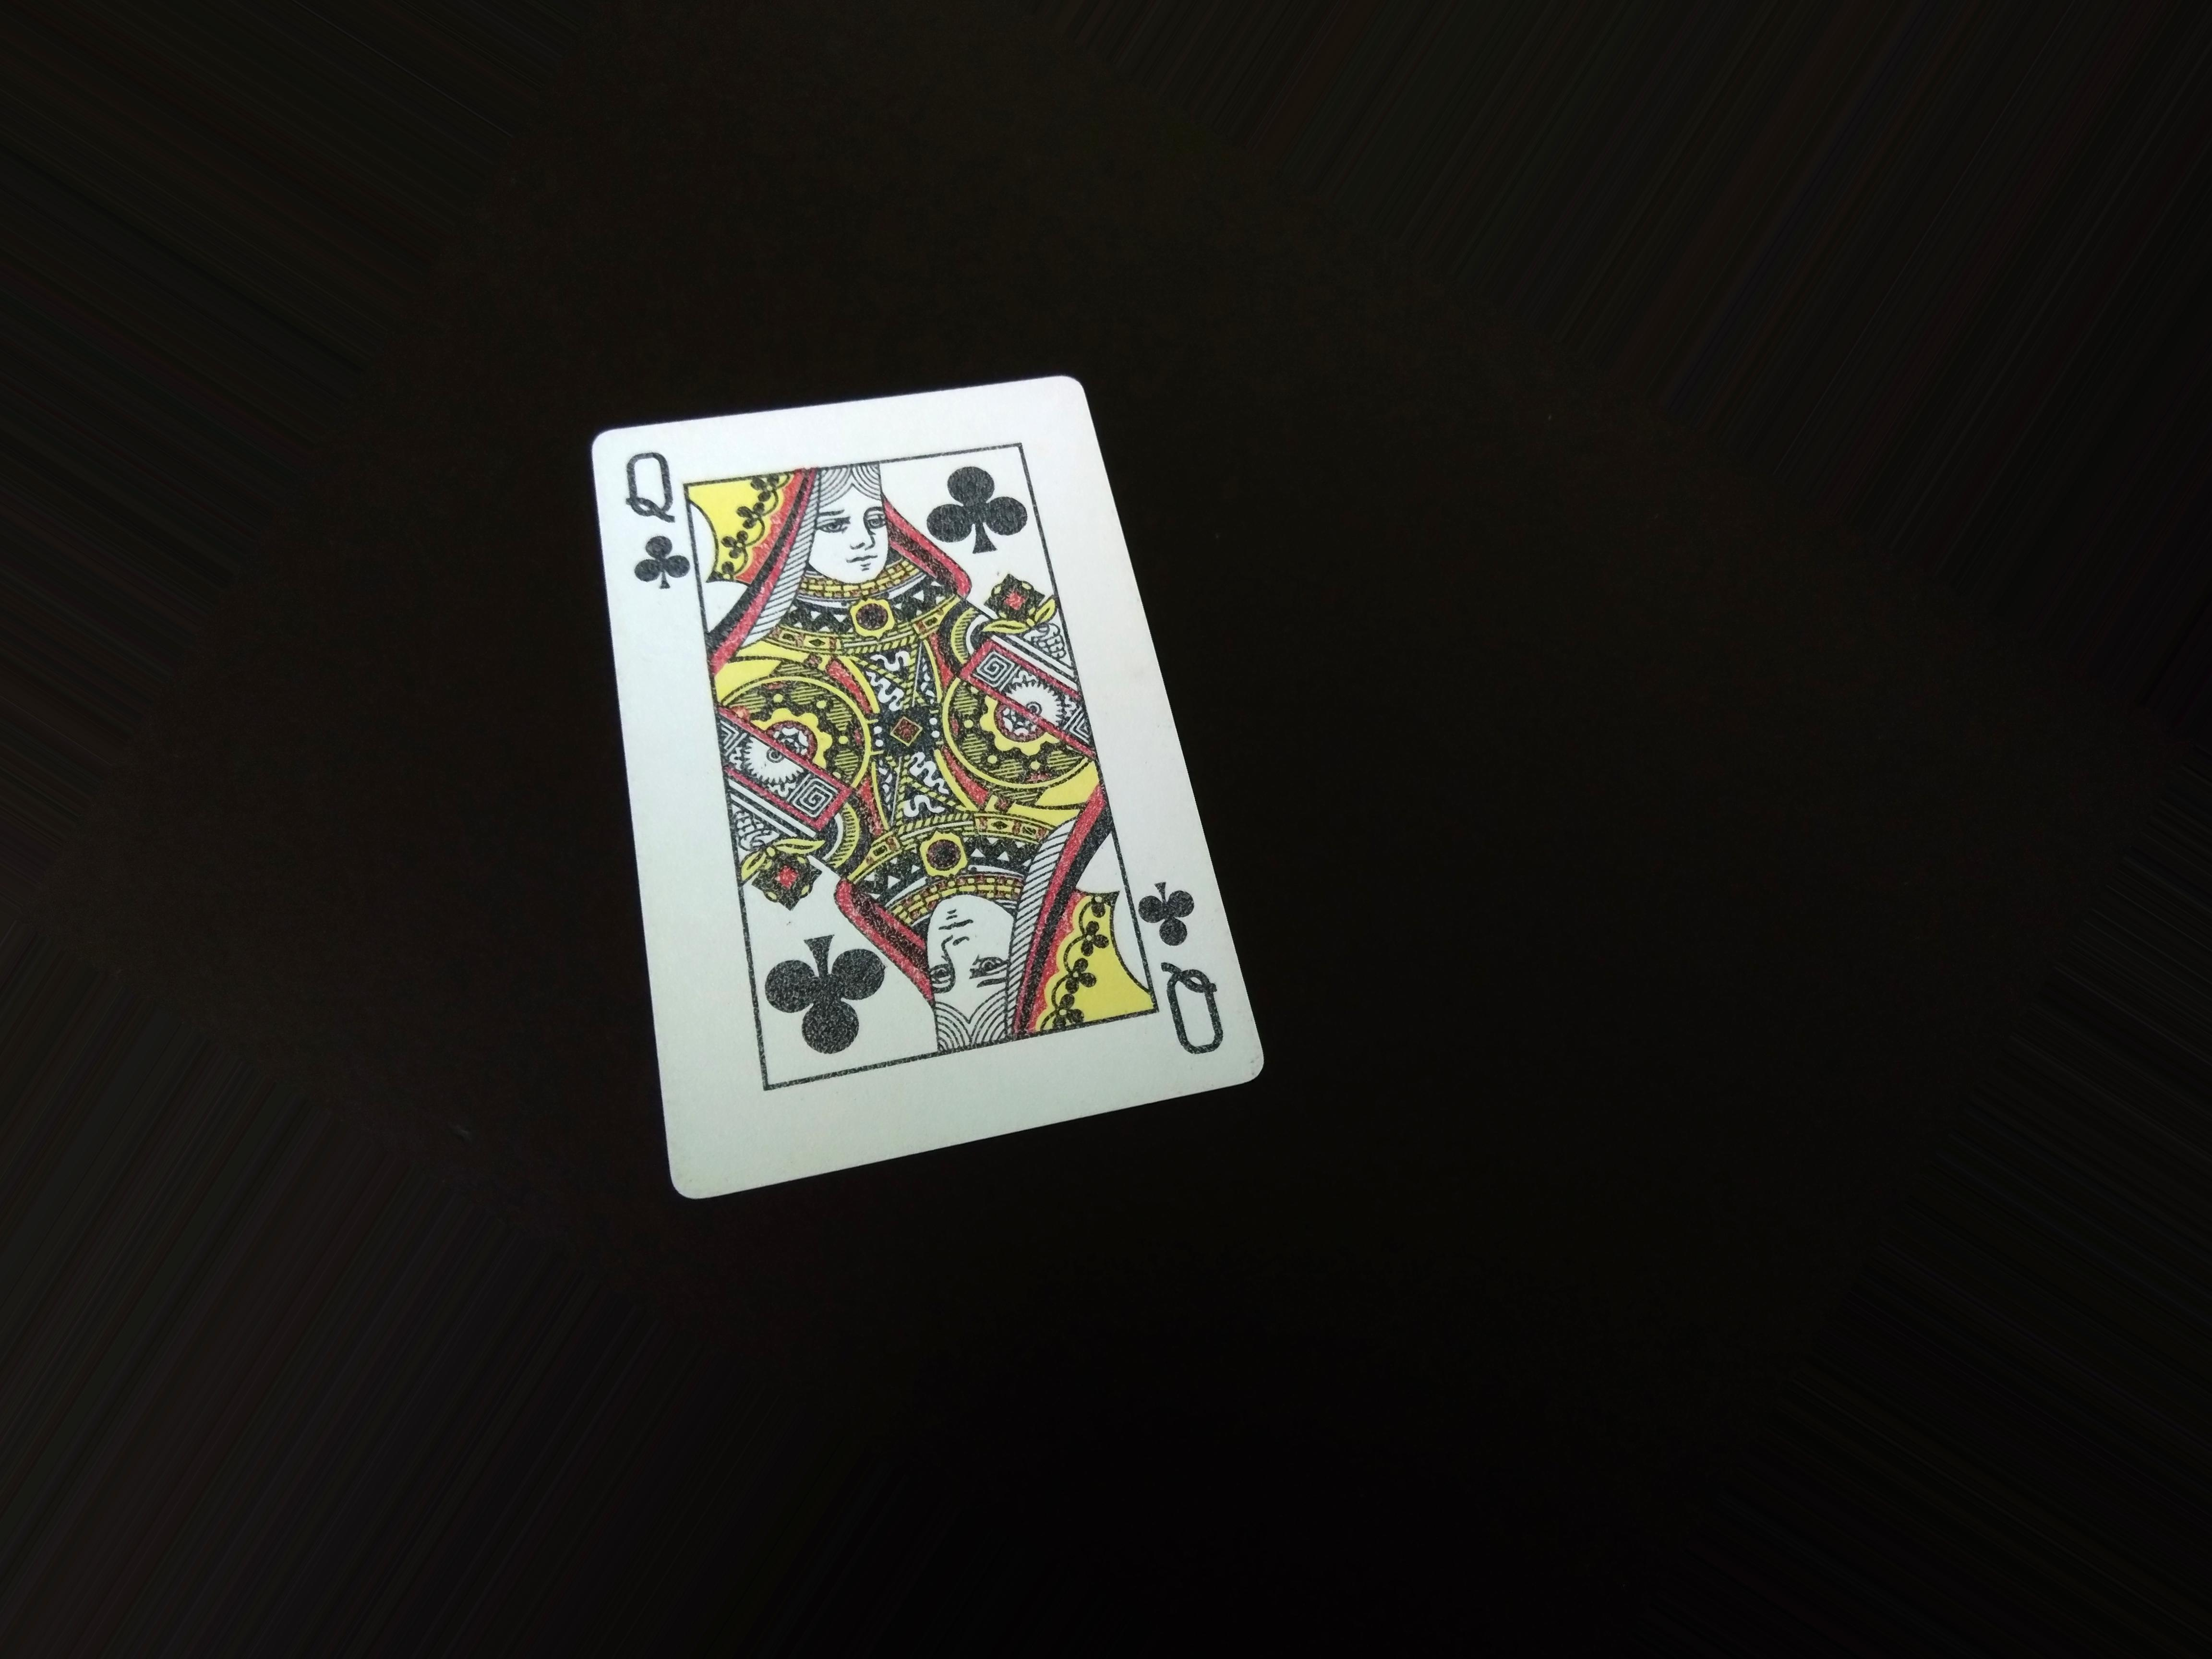QC: (1127, 847, 1233, 1070)
